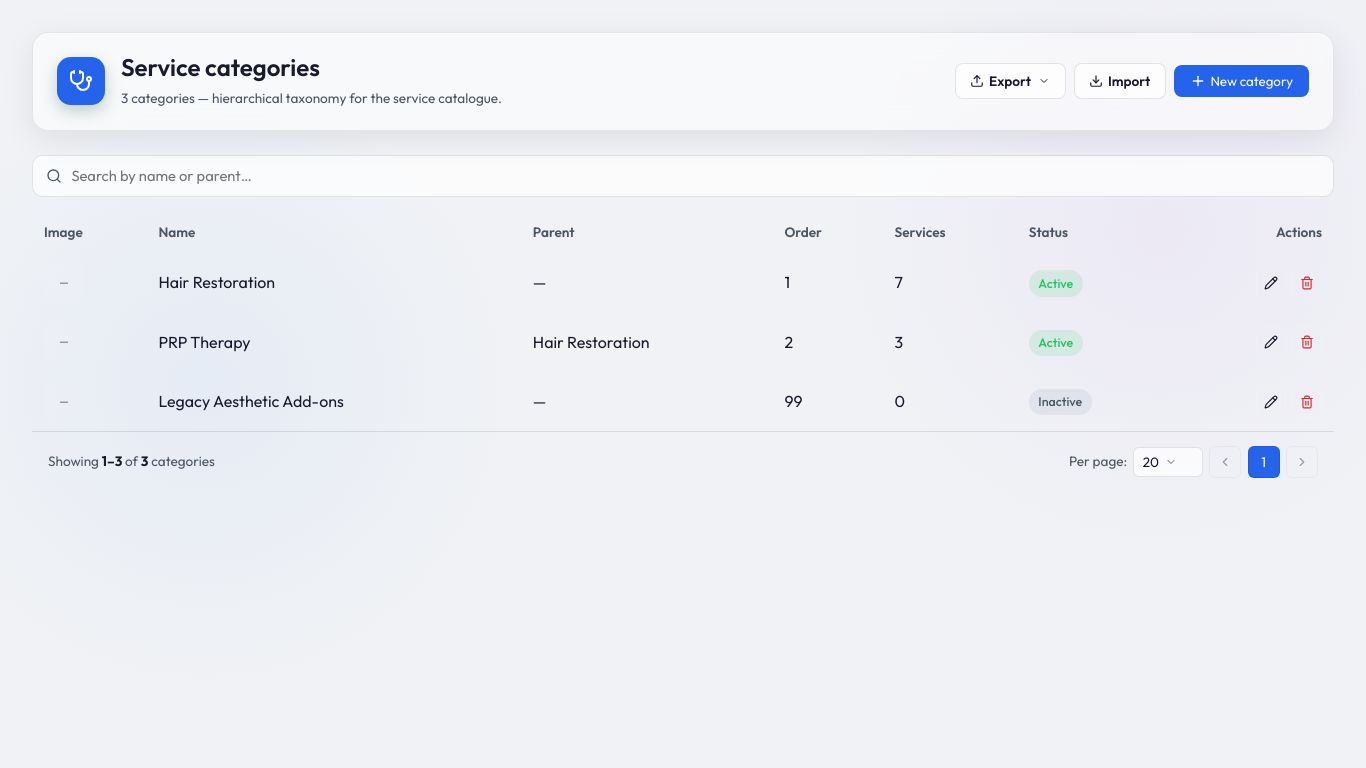
Test: <ServiceCategories /> — New-category form toggle › "New category" opens the form (label flips to "Cancel"); click again closes it
The width and height of the screenshot is (1366, 768).
Check: the text "PRP Therapy" is shown, box [146, 313, 521, 372]
Click the button "New category" at {"x": 1241, "y": 82}, box [1174, 66, 1309, 98]
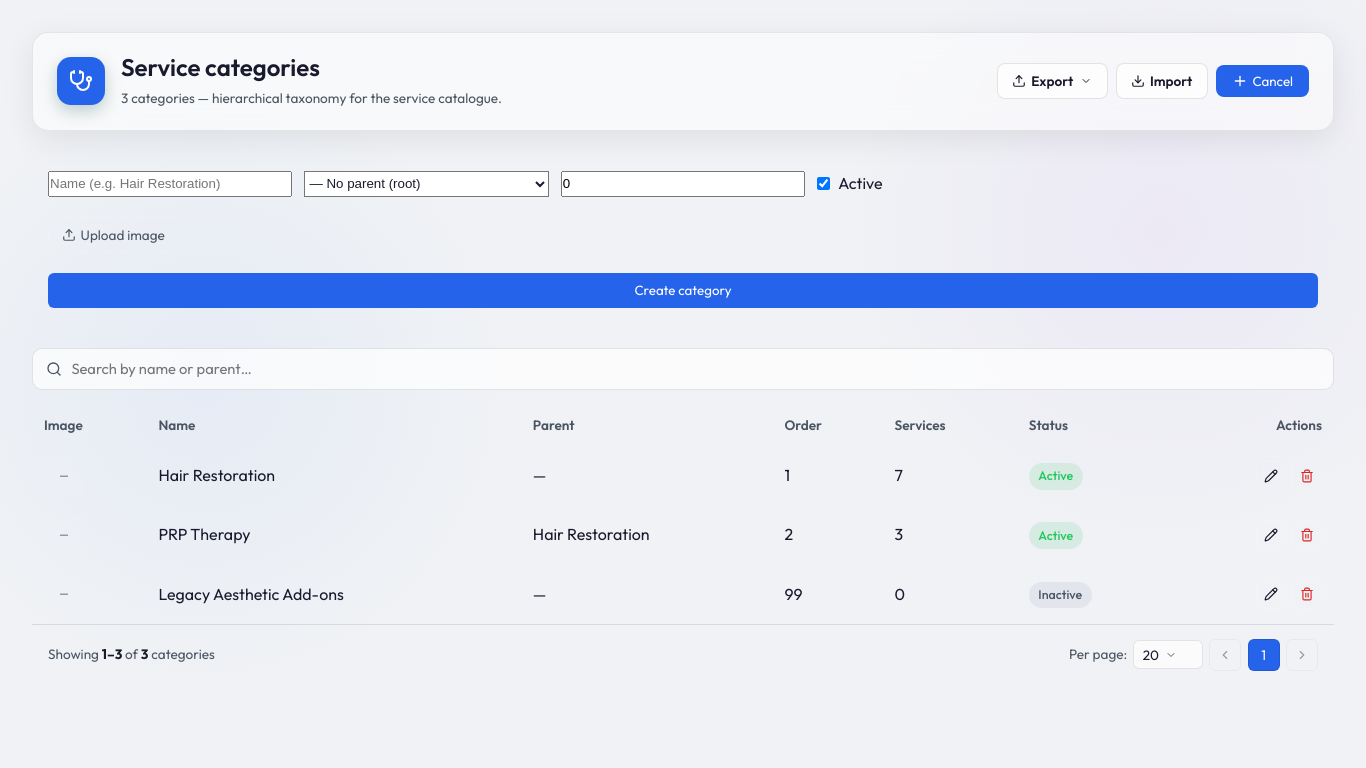
Check: the field with placeholder "Name (e.g. Hair Restoration)" is shown, box [48, 171, 292, 196]
Check: the number field with placeholder "Display order" is shown, box [561, 171, 805, 196]
Check: the button "Cancel" is shown
Note: Click Cancel → form closes, label flips back.
Click the button "Cancel" at {"x": 1262, "y": 82}, box [1216, 66, 1309, 98]
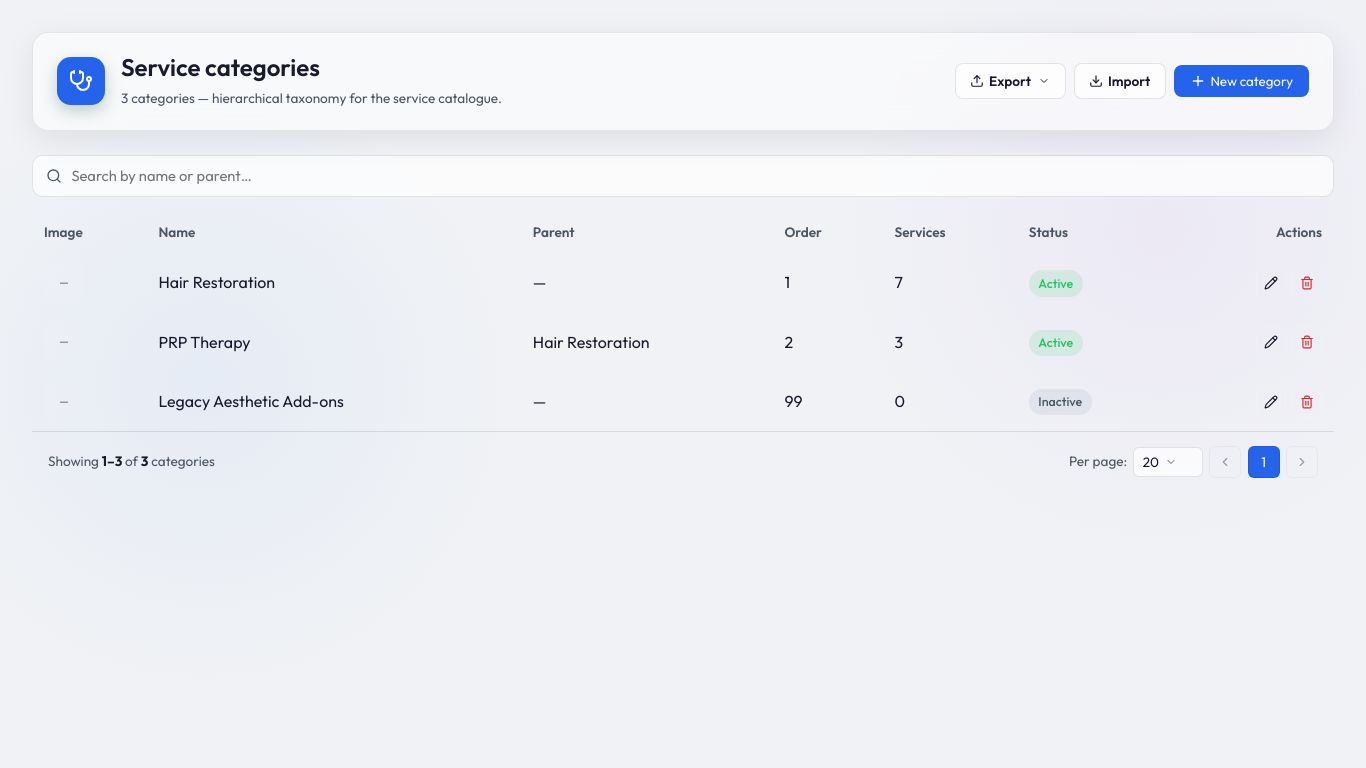
Check: the field with placeholder "Name (e.g. Hair Restoration)" is not shown
Check: the button "New category" is shown, box [1174, 66, 1309, 98]
